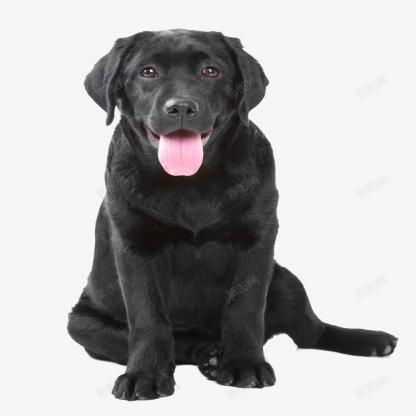dog: (65, 27, 392, 400)
